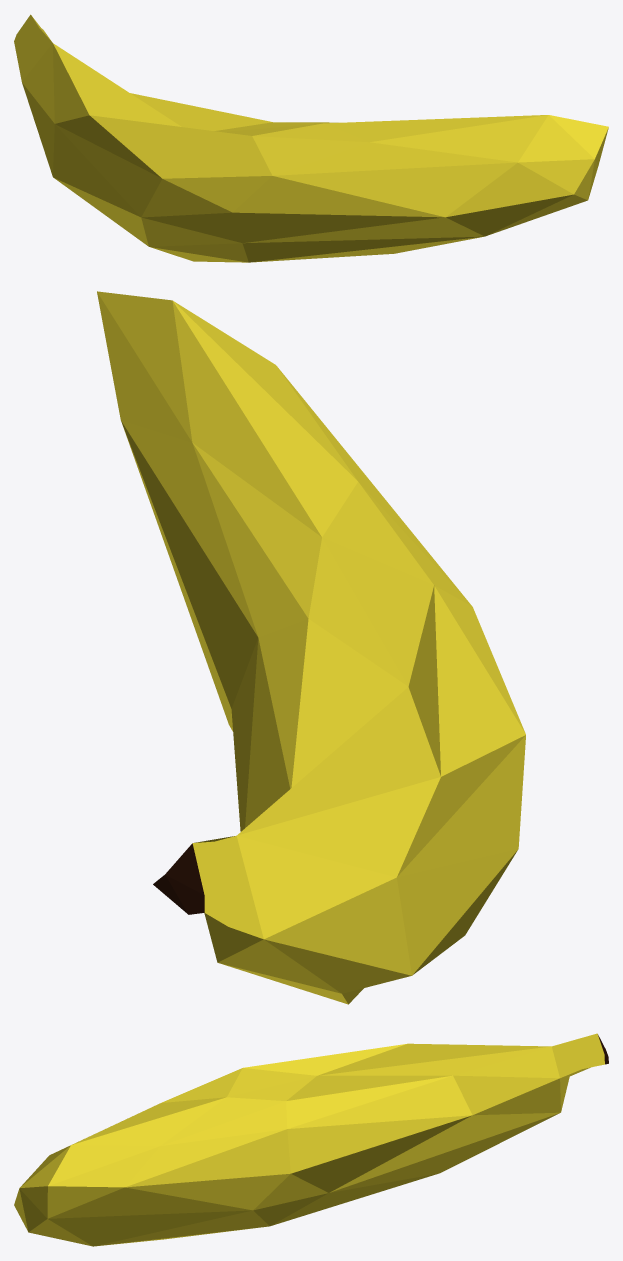
File: banana.fbx
3 views of the same model, one above another, from view 1: azimuth 30°, elevation 25°; view 2: azimuth 150°, elevation 25°; view 3: azimuth 270°, elevation 25° (orthographic). The views are drawn at different scales.
Parts seen in each view (by area): view 1: Icosphere; view 2: Icosphere; view 3: Icosphere.
Boxes of the visible parts, x1=… form: Icosphere: x1=14, y1=14, x2=608, y2=262; Icosphere: x1=97, y1=291, x2=525, y2=1004; Icosphere: x1=14, y1=1033, x2=608, y2=1246.
Bounding box in the file's own units: 43.74 × 20.55 × 60.95.
